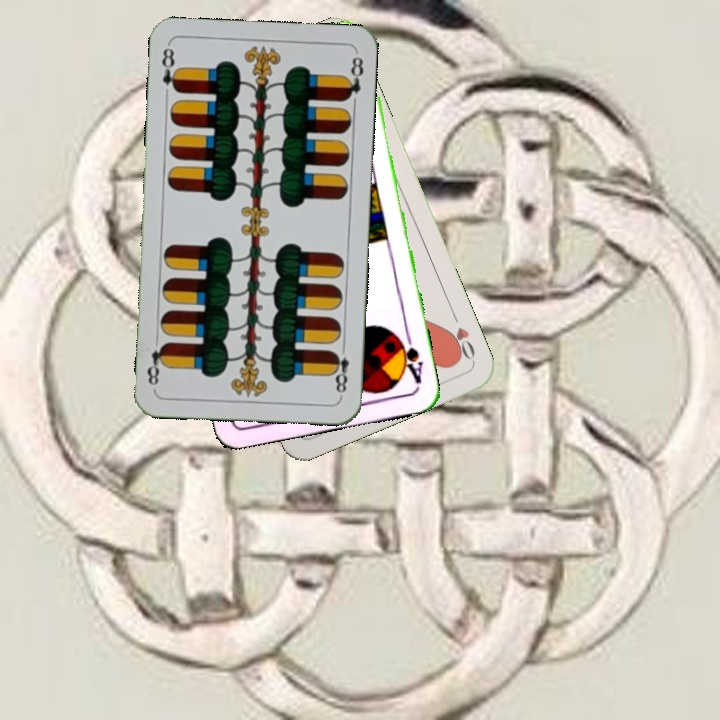E8: (328, 340, 352, 399), (157, 42, 182, 96)
HO: (443, 307, 478, 364)
SA: (393, 329, 426, 386)
